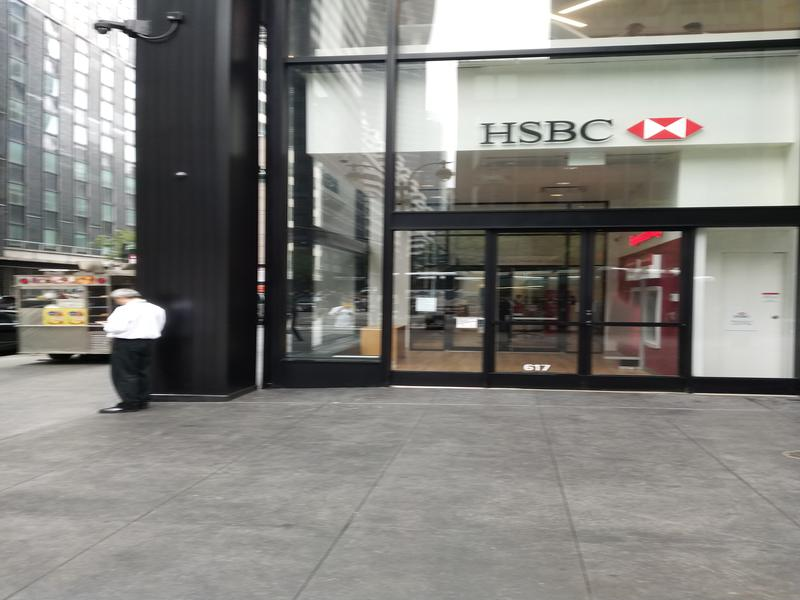double_door: (490, 223, 694, 396)
